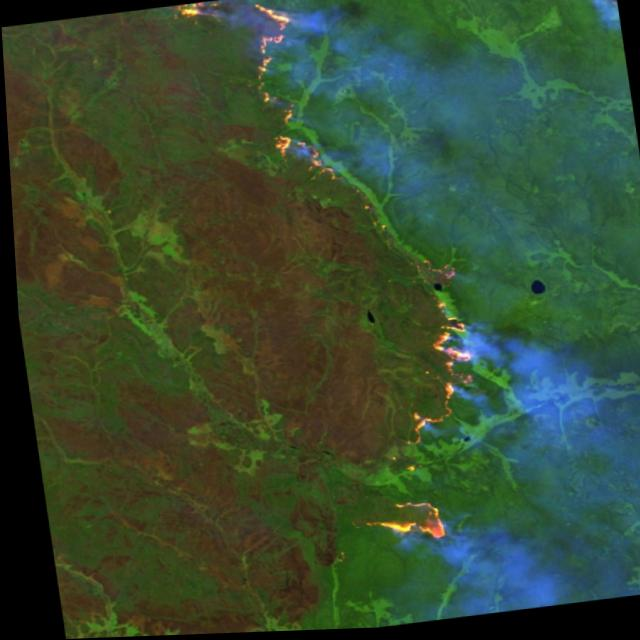fire: (302, 249, 510, 555), (161, 0, 327, 208), (522, 0, 616, 17)
